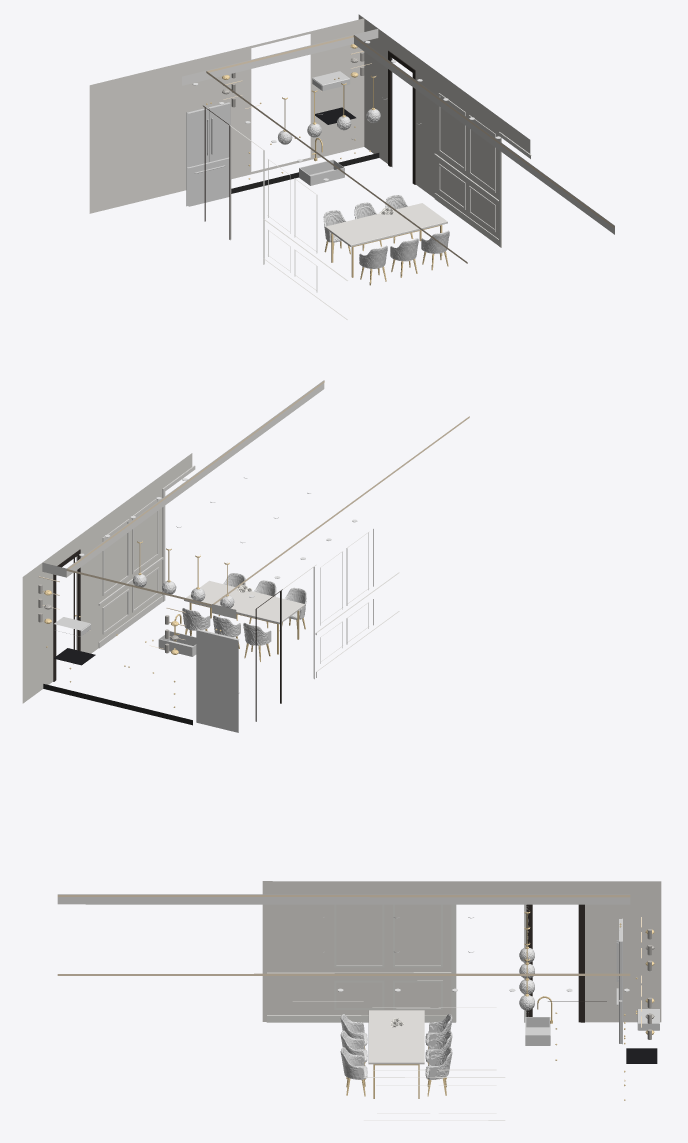
Rendered from KITDIN.glb.
The picture shows the model from 3 angles, top to bottom: view 1: azimuth 30°, elevation 25°; view 2: azimuth 150°, elevation 25°; view 3: azimuth 270°, elevation 25°; orthographic projection. The views are drawn at different scales.
Visible parts, largest first — view 1: WEB_KITDIN; view 2: WEB_KITDIN; view 3: WEB_KITDIN.
Part boxes in pixels (box(x1,y1,x2,y2)): WEB_KITDIN: box(89, 14, 614, 319); WEB_KITDIN: box(22, 380, 469, 732); WEB_KITDIN: box(57, 881, 661, 1120).
Bounding box in the file's own units: 7.6 × 2.5 × 10.61.
